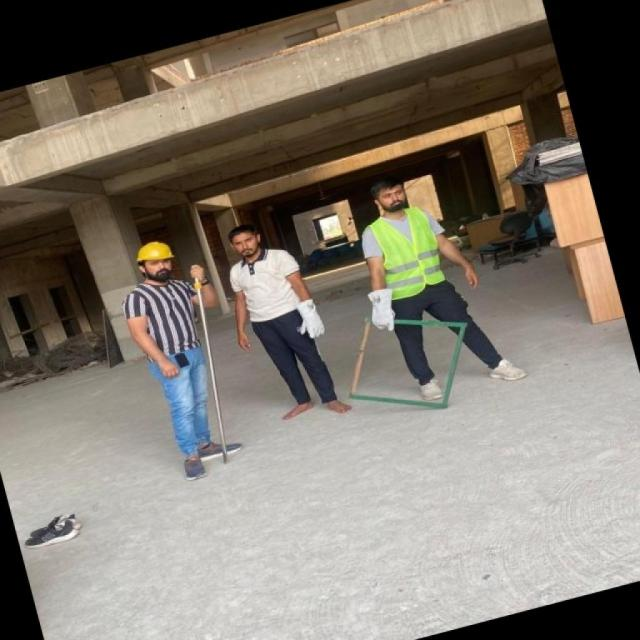Gloves-Detection: (286, 297, 336, 340), (364, 284, 398, 330)
